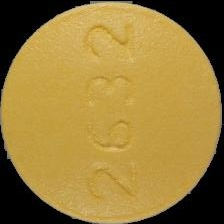63739-531: (0, 0, 224, 224)
